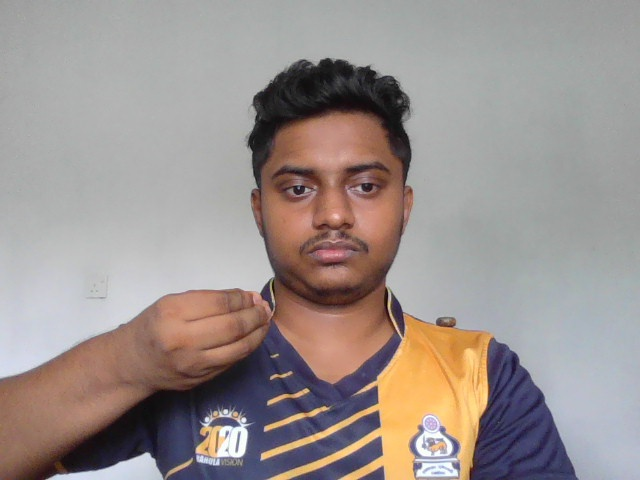Eat: (135, 284, 278, 398)
